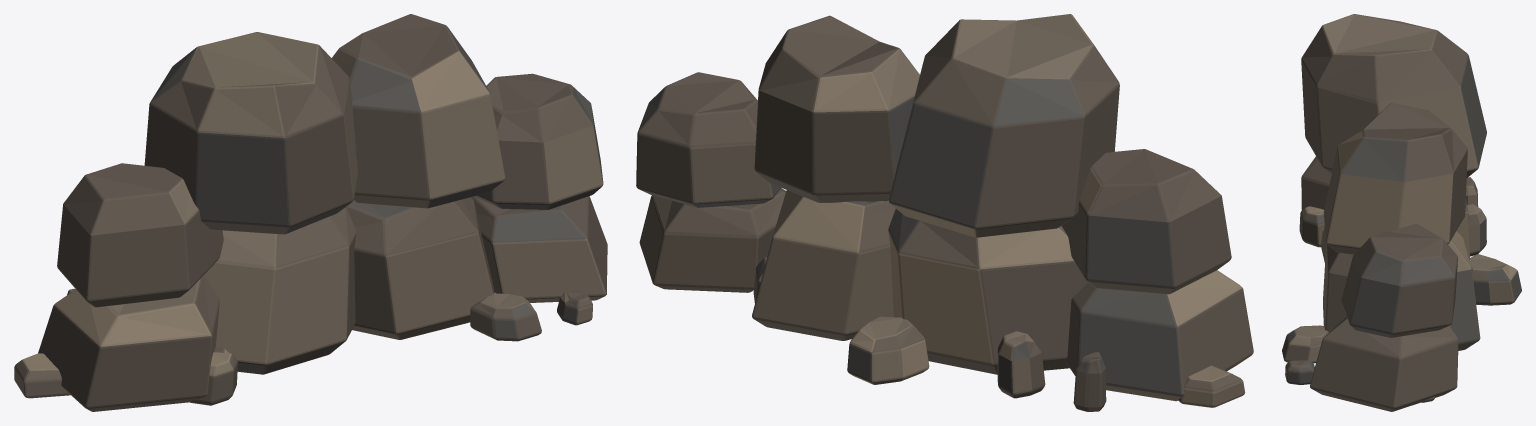
File: SM_Rock_Ridge_01.fbx
The picture shows the model from 3 angles, left to right: view 1: azimuth 30°, elevation 25°; view 2: azimuth 150°, elevation 25°; view 3: azimuth 270°, elevation 25°; orthographic projection. The views are drawn at different scales.
Parts seen in each view (by area): view 1: SM_Rock_Ridge_01; view 2: SM_Rock_Ridge_01; view 3: SM_Rock_Ridge_01.
Part boxes in pixels (x1=…): SM_Rock_Ridge_01: x1=14, y1=14, x2=607, y2=411; SM_Rock_Ridge_01: x1=636, y1=14, x2=1253, y2=411; SM_Rock_Ridge_01: x1=1282, y1=14, x2=1521, y2=411.
Bounding box in the file's own units: 465 × 201 × 222.
